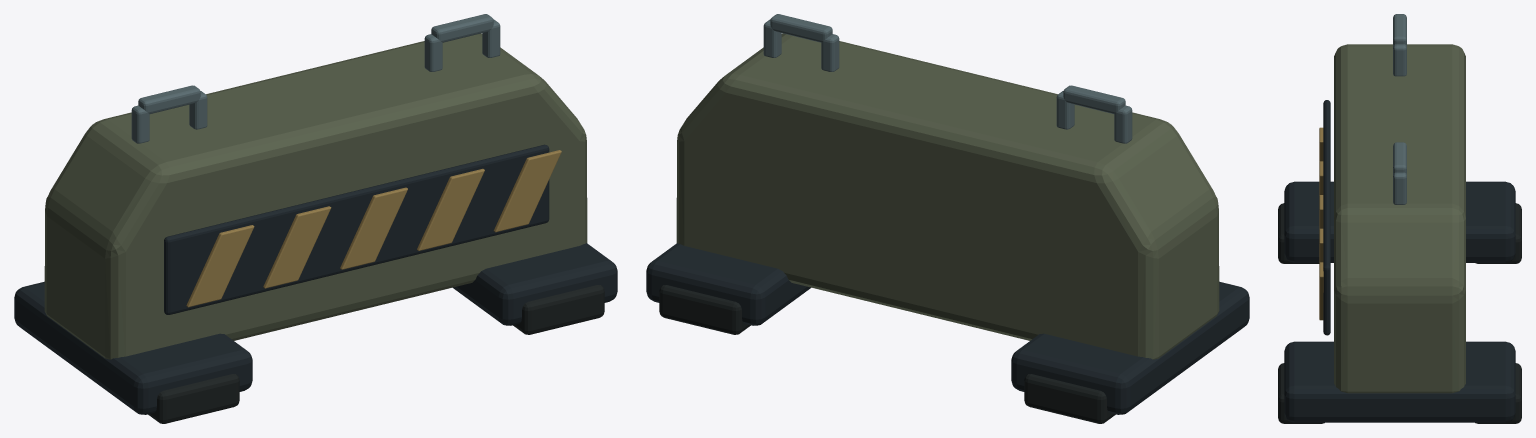
File: ROAD_BLOCK.hi.glb
The picture shows the model from 3 angles, left to right: view 1: azimuth 30°, elevation 25°; view 2: azimuth 150°, elevation 25°; view 3: azimuth 270°, elevation 25°; orthographic projection. The views are drawn at different scales.
Visible parts, largest first — view 1: Body_Mesh; view 2: Body_Mesh; view 3: Body_Mesh.
Part boxes in pixels (x1,y1,x2,y2): Body_Mesh: [14, 14, 617, 423]; Body_Mesh: [646, 14, 1249, 423]; Body_Mesh: [1278, 14, 1521, 423].
Bounding box in the file's own units: 2.01 × 1.06 × 0.98.
